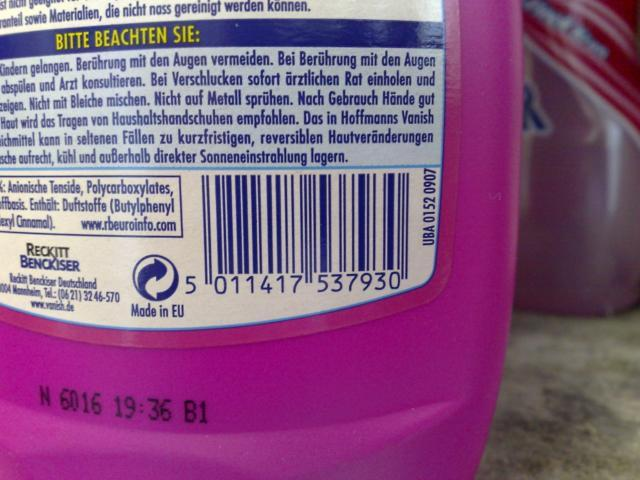Barcode: (186, 168, 417, 301)
